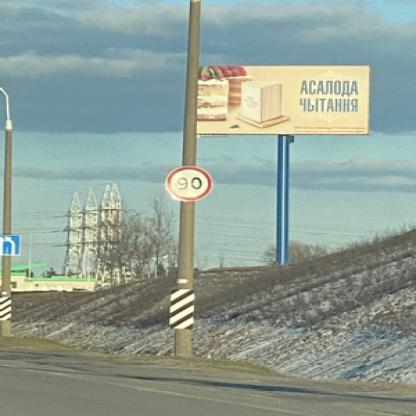speedlimit: (165, 164, 211, 200)
